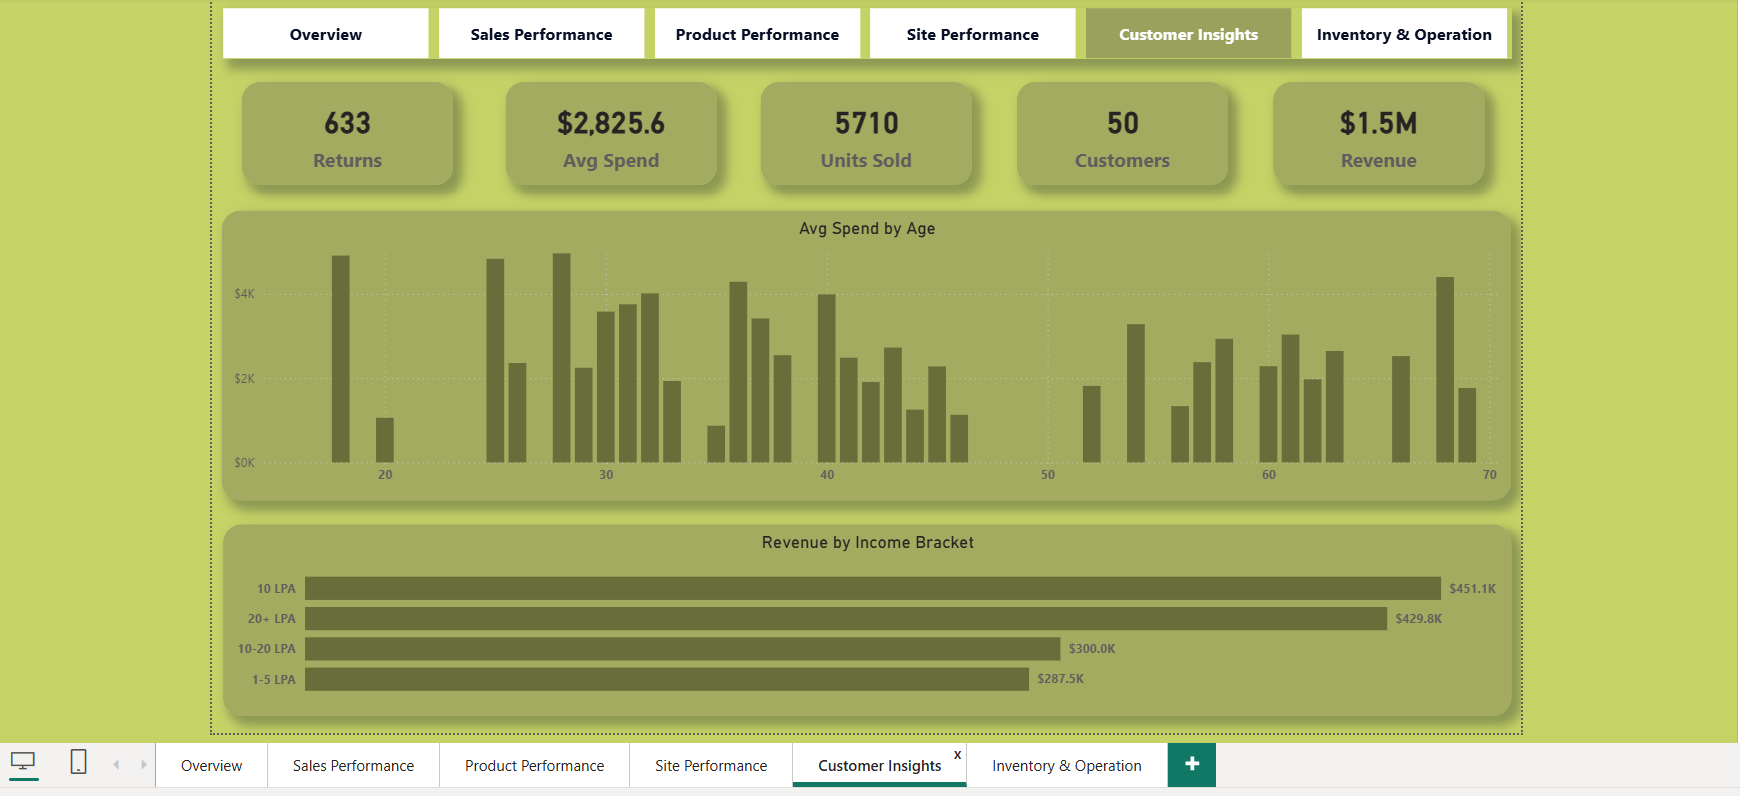

The dashboard page shown, as its layout file describes it:
{"tool":"powerbi","page":{"name":"Customer Insights","canvas":[1280,720],"ordinal":4},"visuals":[{"type":"barChart","fields":{"Category":["Customer_Demographics.Income Bracket"],"Y":["All Measurs.Revenue"]},"box":[11.3,516,1259.9,187.5],"z":0},{"type":"columnChart","fields":{"Category":["Customer_Demographics.Age"],"Y":["All Measurs.Avg Spend"]},"box":[10.1,208.9,1261.1,283.2],"z":1000},{"type":"pageNavigator","box":[11,11,1261.1,49.4],"z":2000},{"type":"card","fields":{"Values":["All Measurs.Revenue","select"]},"box":[1038.3,83.1,206.4,100.7],"z":3000},{"type":"card","fields":{"Values":["All Measurs.Units Sold"]},"box":[537.4,83.1,206.4,100.7],"z":4000},{"type":"card","fields":{"Values":["All Measurs.Returns"]},"box":[28.9,83.1,206.4,100.7],"z":5000},{"type":"card","fields":{"Values":["select","All Measurs.Customers"]},"box":[787.9,83.1,206.4,100.7],"z":6000},{"type":"card","fields":{"Values":["select","All Measurs.Avg Spend"]},"box":[287,83.1,206.4,100.7],"z":7000}]}

Visuals, with their boxes on the page's 1280x720 design canvas (x1, y1, x2, y2). These are canvas units, not pixel positions in the 1740x796 screenshot, which may show the page scaled, cropped or inside an application window:
barChart - Customer_Demographics.Income Bracket x All Measurs.Revenue: select_region(11, 516, 1271, 704)
columnChart - Customer_Demographics.Age x All Measurs.Avg Spend: select_region(10, 209, 1271, 492)
pageNavigator: select_region(11, 11, 1272, 60)
card - All Measurs.Revenue x select: select_region(1038, 83, 1245, 184)
card - All Measurs.Units Sold: select_region(537, 83, 744, 184)
card - All Measurs.Returns: select_region(29, 83, 235, 184)
card - select x All Measurs.Customers: select_region(788, 83, 994, 184)
card - select x All Measurs.Avg Spend: select_region(287, 83, 493, 184)
